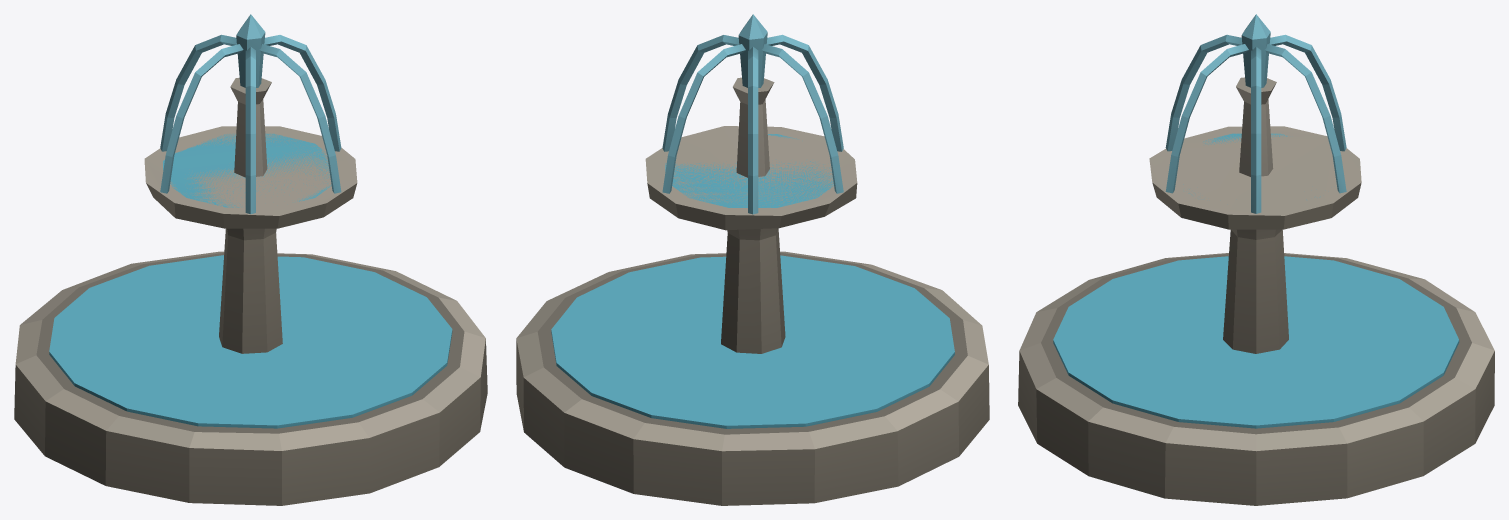
The model's file is fountain.glb.
The picture shows the model from 3 angles, left to right: view 1: azimuth 30°, elevation 25°; view 2: azimuth 150°, elevation 25°; view 3: azimuth 270°, elevation 25°; orthographic projection.
Parts seen in each view (by area): view 1: base, water_m; view 2: base, water_m; view 3: base, water_m.
Boxes of the visible parts, x1,y1,x2,y2 form: base: (14, 77, 487, 505); water_m: (160, 14, 341, 214); base: (516, 77, 989, 505); water_m: (662, 14, 843, 214); base: (1018, 77, 1494, 505); water_m: (1165, 14, 1346, 213).
Bounding box in the file's own units: 1.1 × 1 × 1.1.
